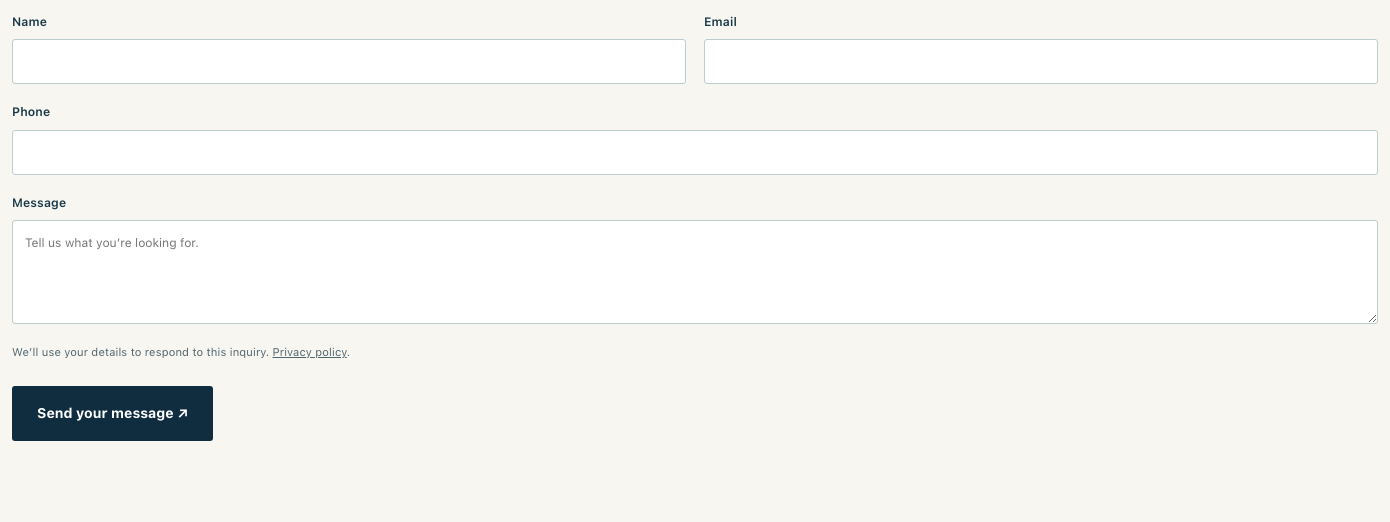
Test: home inquiry › keeps the message when sending fails
Type "  Test Buyer  " into the field labelled "Name".
click(349, 62); type("  Test Buyer  ")  # box x1=12 y1=39 x2=686 y2=84
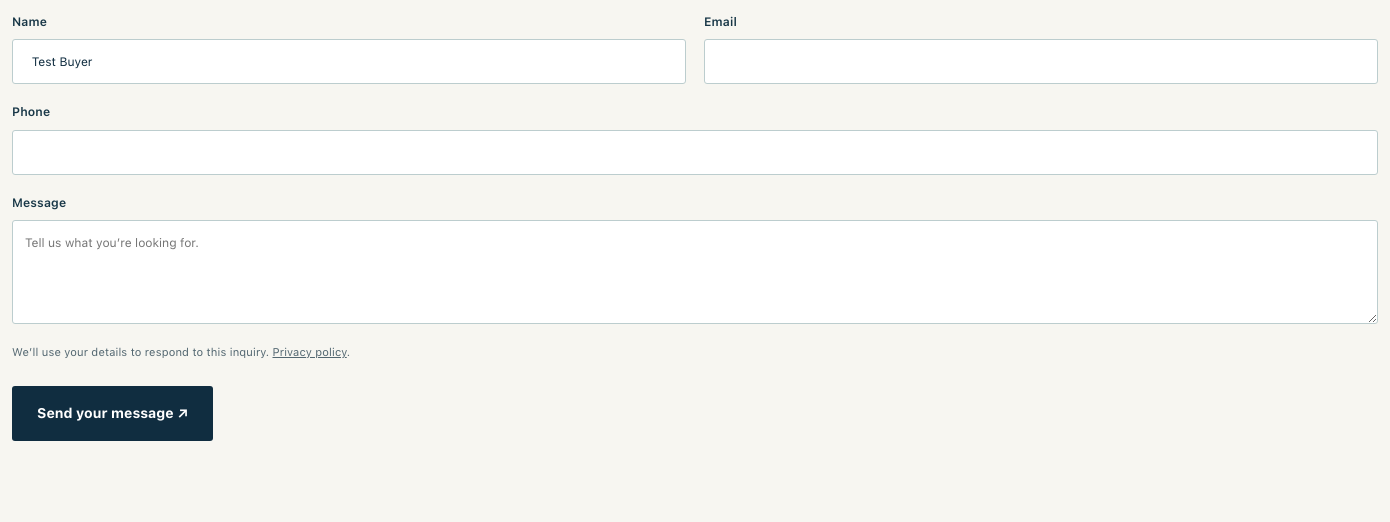
Type "buyer@example.com" into the field labelled "Email".
click(1041, 62); type("buyer@example.com")  # box x1=704 y1=39 x2=1378 y2=84
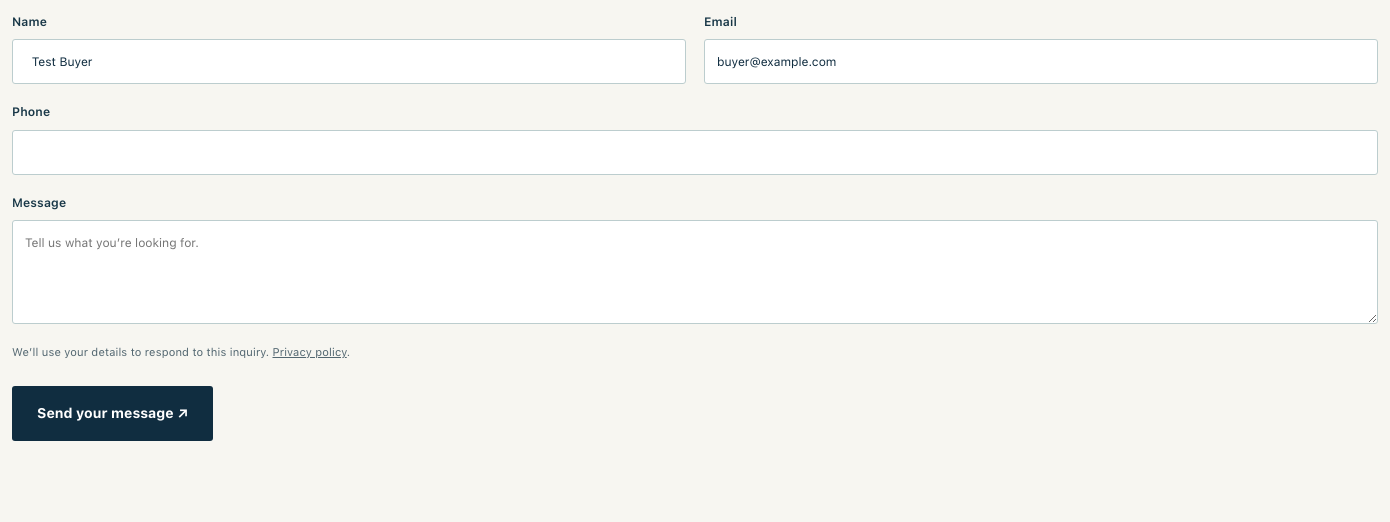
Type "9045550100" into the field labelled "Phone".
click(695, 152); type("9045550100")  # box x1=12 y1=130 x2=1378 y2=175
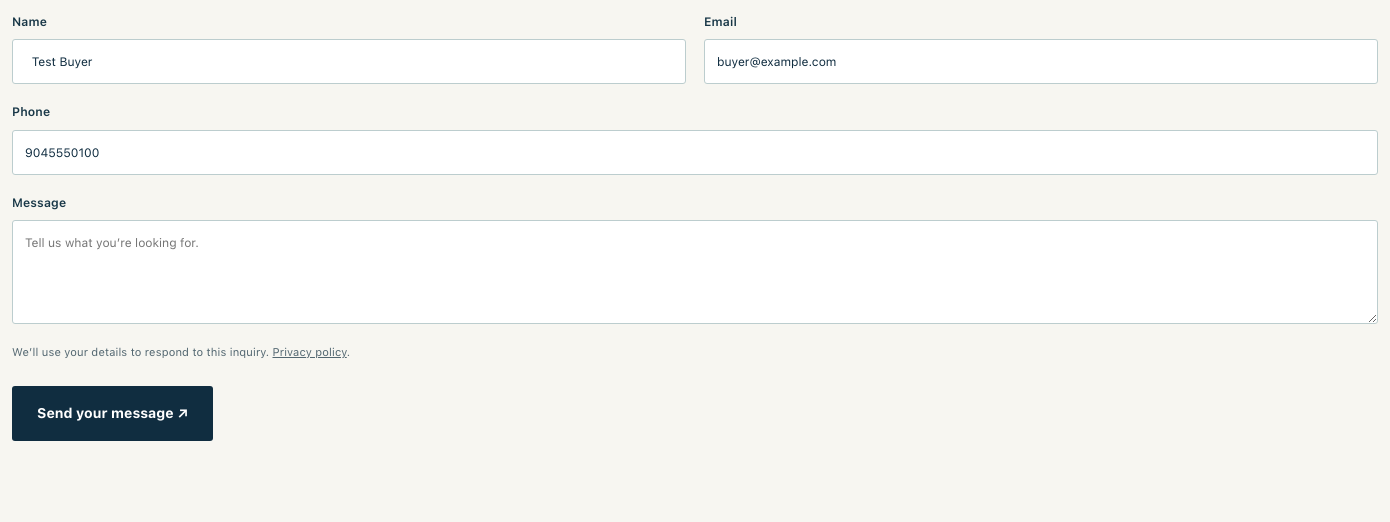
Type "  Looking for a home.  " into the text box labelled "Message".
click(695, 272); type("  Looking for a home.  ")  # box x1=12 y1=220 x2=1378 y2=324
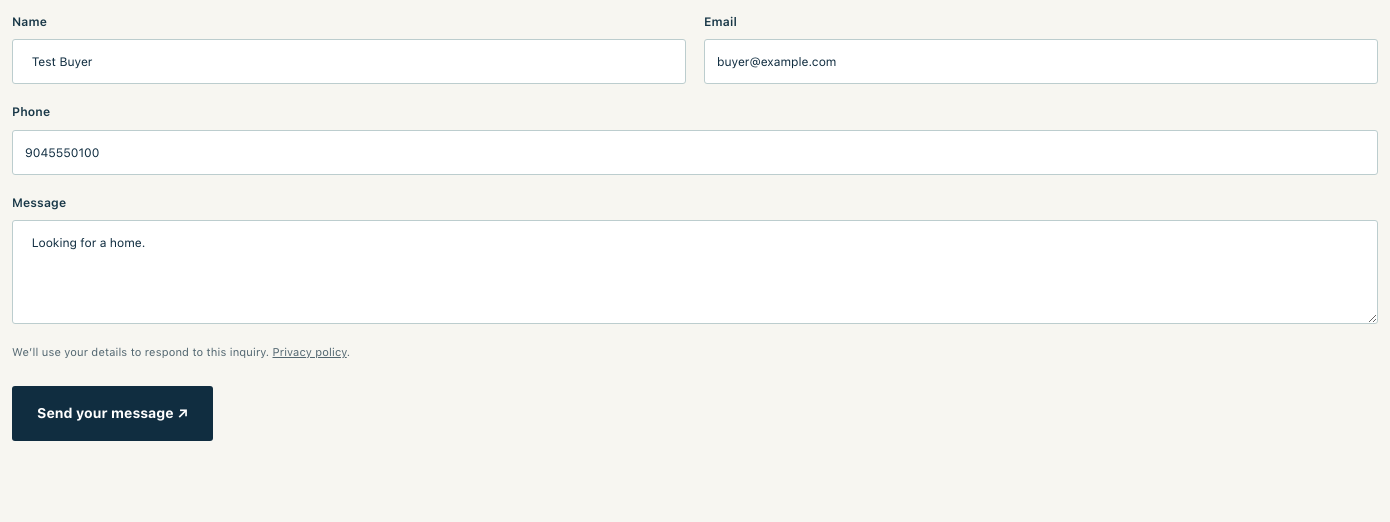
Submit the form
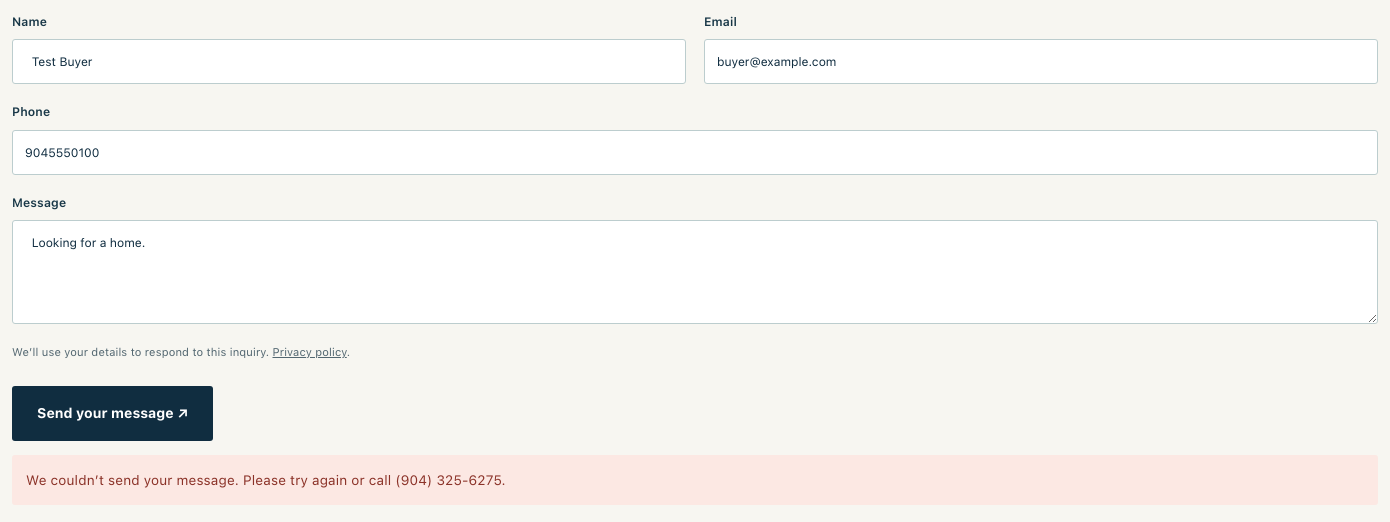
Check: the message "We couldn’t send your message. Please try again or call (904) 325-6275." is shown, box x1=12 y1=455 x2=1378 y2=505
